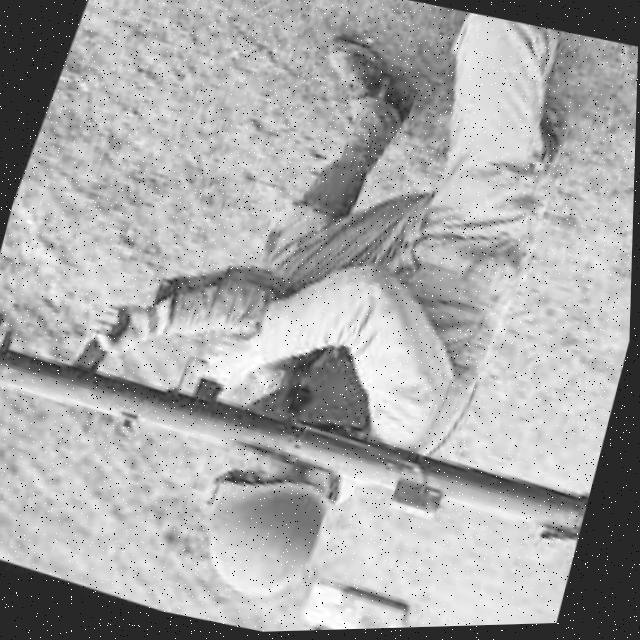rocket: (0, 290, 611, 590)
